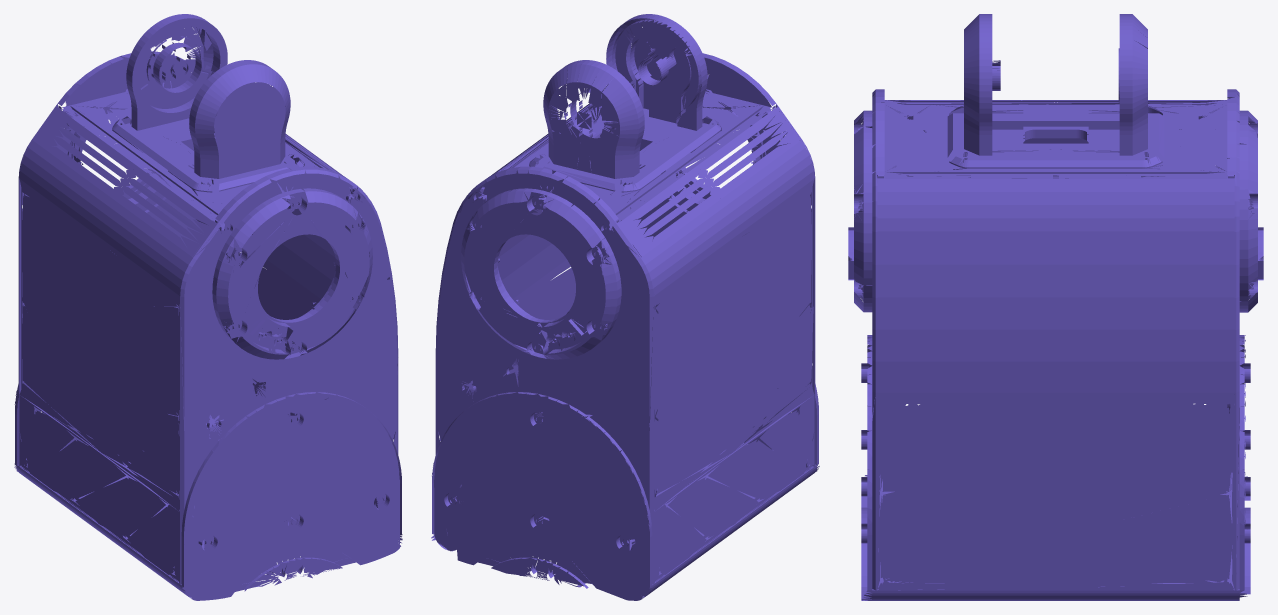
File: A2R3_T4_Chest_Neck.dae
3 renders of one model, left to right at view 1: azimuth 30°, elevation 25°; view 2: azimuth 150°, elevation 25°; view 3: azimuth 270°, elevation 25°, orthographic. The views are drawn at different scales.
Parts seen in each view (by area): view 1: T2R3_TJ3_chest_waist_neck; view 2: T2R3_TJ3_chest_waist_neck; view 3: T2R3_TJ3_chest_waist_neck.
Boxes of the visible parts, x1,y1,x2,y2 form: T2R3_TJ3_chest_waist_neck: (14, 14, 402, 600); T2R3_TJ3_chest_waist_neck: (431, 14, 819, 600); T2R3_TJ3_chest_waist_neck: (848, 14, 1263, 600).
Bounding box in the file's own units: 0.1459 × 0.2156 × 0.3078.
